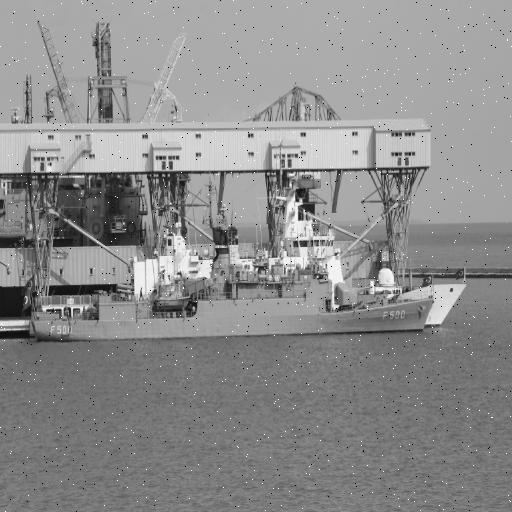Fragata: (22, 193, 439, 346)
